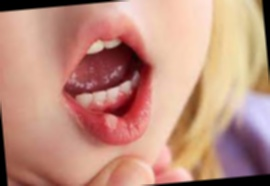Ulcer: (100, 110, 120, 135)
